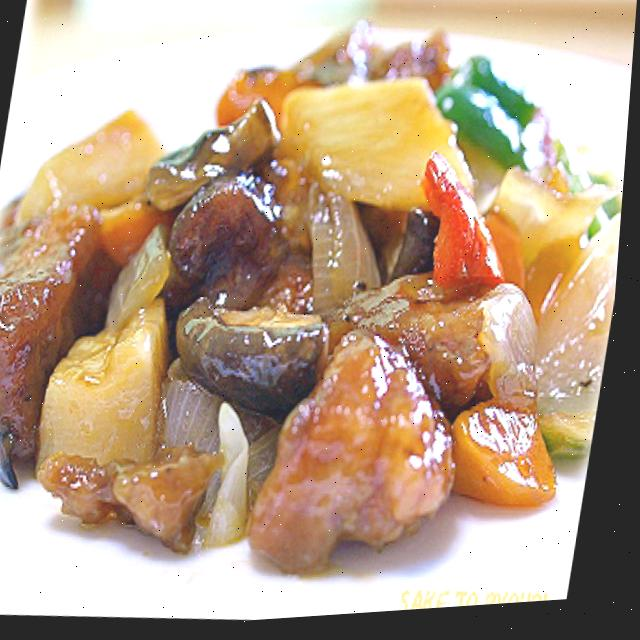猪肉菜式: (0, 0, 639, 623)
